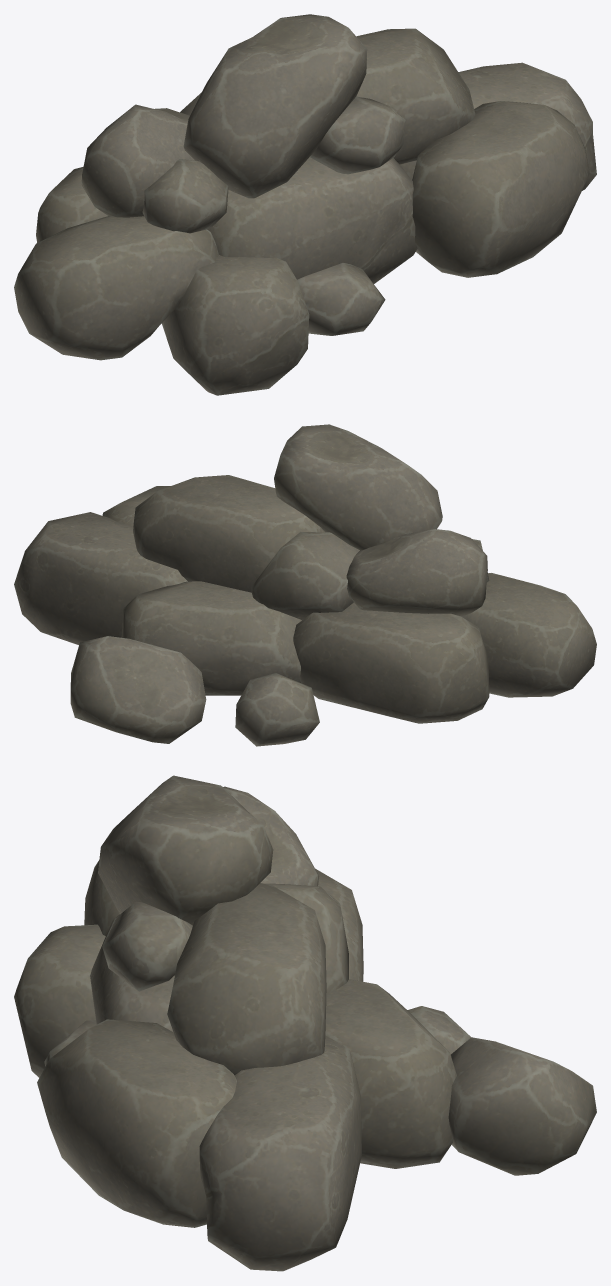
Rendered from MSH_fwOF_Debris_01.fbx.
The picture shows the model from 3 angles, top to bottom: view 1: azimuth 30°, elevation 25°; view 2: azimuth 150°, elevation 25°; view 3: azimuth 270°, elevation 25°; orthographic projection. The views are drawn at different scales.
Visible parts, largest first — view 1: MSH_fwOF_Debris_01_LOD0; view 2: MSH_fwOF_Debris_01_LOD0; view 3: MSH_fwOF_Debris_01_LOD0.
Part boxes in pixels (bbox=[...]): MSH_fwOF_Debris_01_LOD0: bbox=[14, 14, 596, 395]; MSH_fwOF_Debris_01_LOD0: bbox=[14, 424, 596, 746]; MSH_fwOF_Debris_01_LOD0: bbox=[14, 775, 596, 1271].
Size of what is drawn, in the model's own units: 1.66 by 0.7737 by 1.21.
